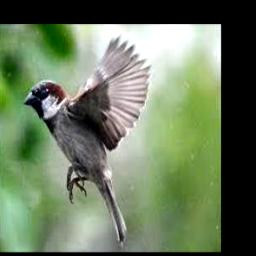Sparrow: (24, 35, 151, 244)
